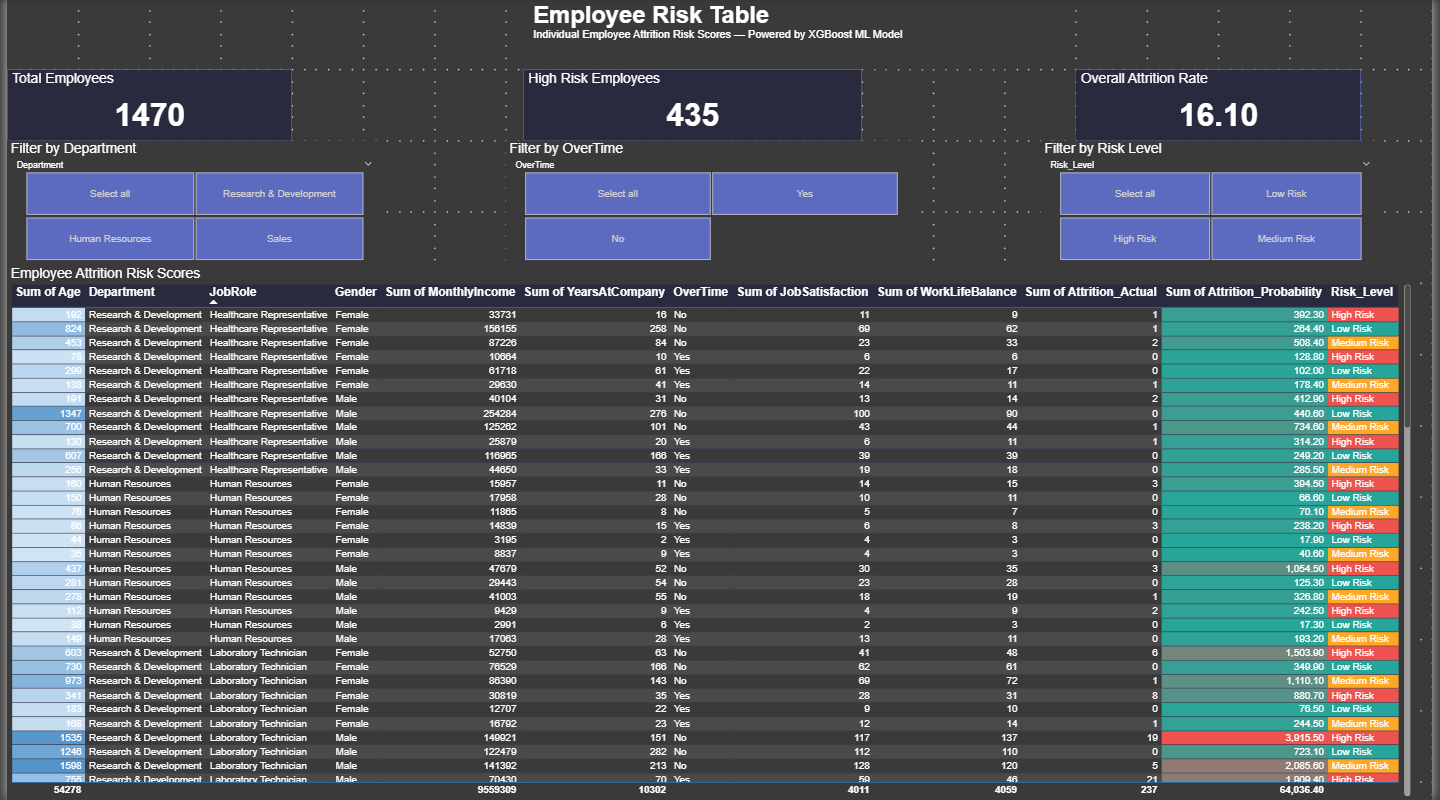

The dashboard page shown, as its layout file describes it:
{"tool":"powerbi","page":{"name":"Employee Risk Table","canvas":[1920,1080],"ordinal":2},"visuals":[{"type":"textbox","box":[704,0,656,96],"z":0},{"type":"card","title":"Total Employees","fields":{"Values":["hr_for_powerbi.Total Employees"]},"box":[0,96,384,96],"z":1000},{"type":"card","title":"Overall Attrition Rate","fields":{"Values":["hr_for_powerbi.Attrition Rate"]},"box":[1440,96,384,96],"z":2000},{"type":"tableEx","title":"Employee Attrition Risk Scores","fields":{"Values":["Sum(hr_for_powerbi.Age)","hr_for_powerbi.Department","hr_for_powerbi.JobRole","hr_for_powerbi.Gender","Sum(hr_for_powerbi.MonthlyIncome)","Sum(hr_for_powerbi.YearsAtCompany)","hr_for_powerbi.OverTime","Sum(hr_for_powerbi.JobSatisfaction)","Sum(hr_for_powerbi.WorkLifeBalance)","Sum(hr_for_powerbi.Attrition_Actual)","Sum(hr_for_powerbi.Attrition_Probability)","hr_for_powerbi.Risk_Level"]},"box":[0,360,1896,720],"z":3000},{"type":"card","title":"High Risk Employees","fields":{"Values":["hr_for_powerbi.High Risk Count"]},"box":[696,96,456,96],"z":4000},{"type":"slicer","title":"Filter by Risk Level","fields":{"Values":["hr_for_powerbi.Risk_Level"]},"box":[1392,192,456,168],"z":5000},{"type":"slicer","title":"Filter by Department","fields":{"Values":["hr_for_powerbi.Department"]},"box":[0,192,504,168],"z":6000},{"type":"slicer","title":"Filter by OverTime","fields":{"Values":["hr_for_powerbi.OverTime"]},"box":[672,192,552,168],"z":7000}]}

Visuals, with their boxes in screenshot pixels (x1, y1, x2, y2), scaled from the page's 1920x1080 canvas onto the 1440x800 screenshot:
textbox: BBox(528, 0, 1020, 71)
"Total Employees" card: BBox(0, 71, 288, 142)
"Overall Attrition Rate" card: BBox(1080, 71, 1368, 142)
"Employee Attrition Risk Scores" tableEx: BBox(0, 267, 1422, 799)
"High Risk Employees" card: BBox(522, 71, 864, 142)
"Filter by Risk Level" slicer: BBox(1044, 142, 1386, 267)
"Filter by Department" slicer: BBox(0, 142, 378, 267)
"Filter by OverTime" slicer: BBox(504, 142, 918, 267)
